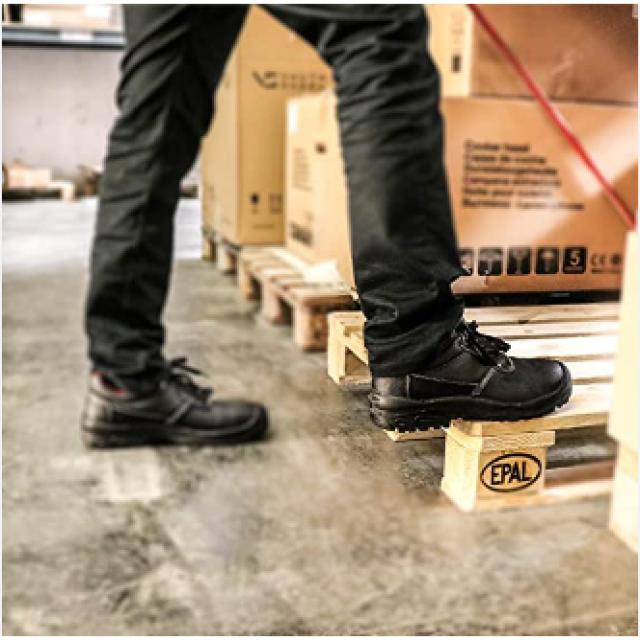boots: (79, 301, 580, 458)
